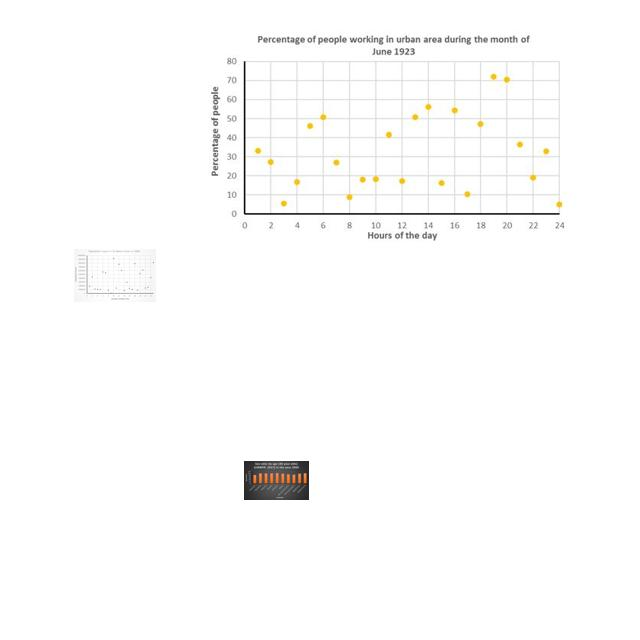Graph: (209, 30, 569, 242), (74, 249, 156, 302), (244, 461, 309, 500)
